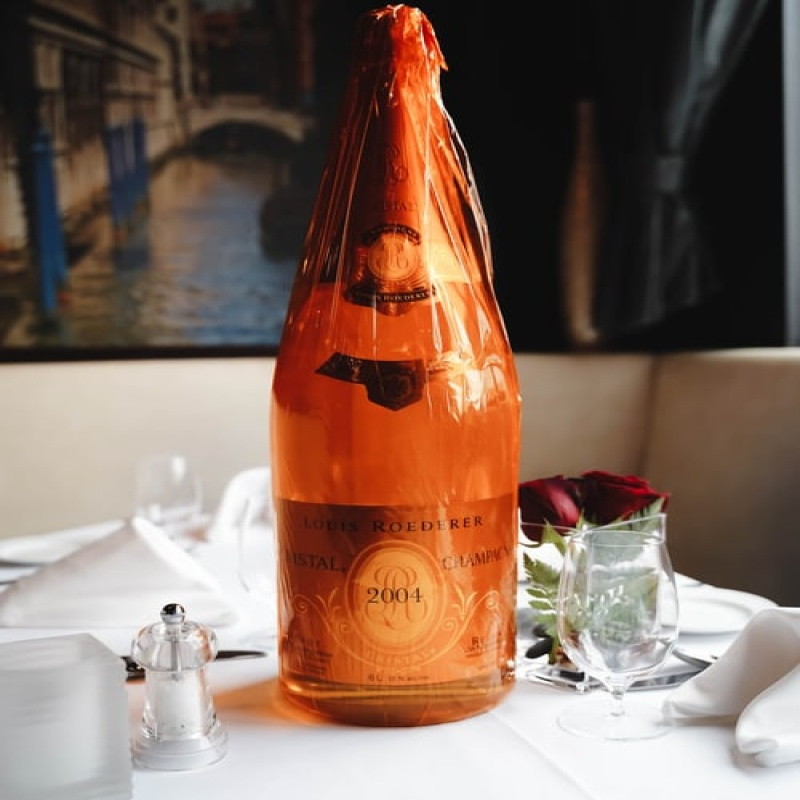wine: (271, 9, 511, 716)
